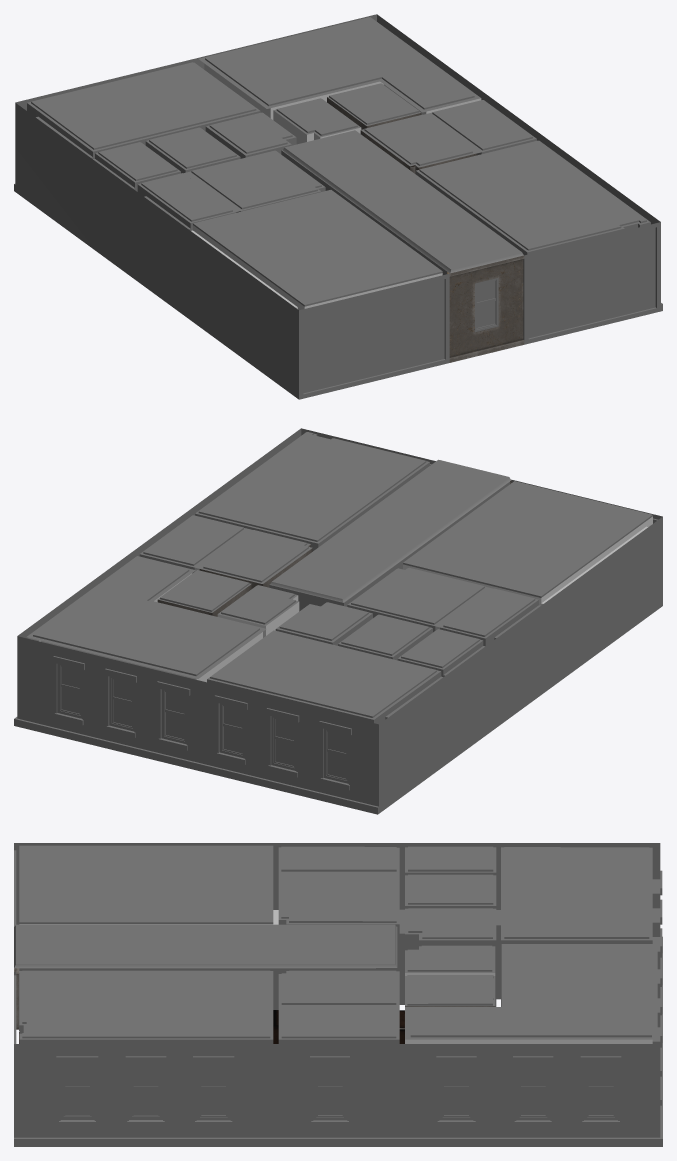
File: Floor.fbx
3 views of the same model, one above another, from view 1: azimuth 30°, elevation 25°; view 2: azimuth 150°, elevation 25°; view 3: azimuth 270°, elevation 25° (orthographic). The views are drawn at different scales.
Visible parts, largest first — view 1: Mesh (3); view 2: Mesh (3); view 3: Mesh (3).
Boxes of the visible parts, x1,y1,x2,y2 form: Mesh (3): (14, 14, 662, 399); Mesh (3): (14, 428, 662, 814); Mesh (3): (14, 843, 662, 1146).
Size of the model in its own units: 1405 by 341 by 1907.
